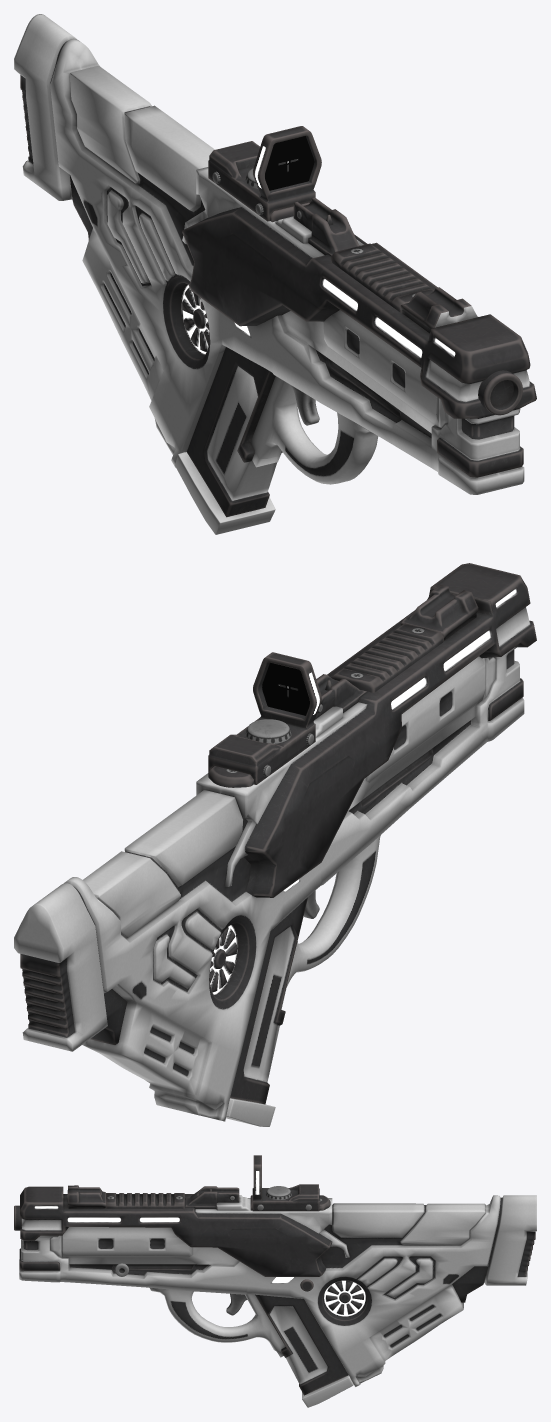
The model's file is SciFiSMG01_2.FBX.
3 views of the same model, one above another, from view 1: azimuth 30°, elevation 25°; view 2: azimuth 150°, elevation 25°; view 3: azimuth 270°, elevation 25° (orthographic). The views are drawn at different scales.
Parts seen in each view (by area): view 1: SciFiSMG01_2, Scope, Clip, ScopeDot, Trigger; view 2: SciFiSMG01_2, Scope, ScopeDot, Clip; view 3: SciFiSMG01_2, Scope, Clip.
Boxes of the visible parts, left/top/right/bottom form: SciFiSMG01_2: left=14, top=14, right=536, bottom=517; Scope: left=208, top=126, right=321, bottom=221; Clip: left=175, top=452, right=275, bottom=534; ScopeDot: left=265, top=136, right=314, bottom=190; Trigger: left=291, top=385, right=319, bottom=425; SciFiSMG01_2: left=14, top=563, right=536, bottom=1121; Scope: left=208, top=652, right=321, bottom=784; ScopeDot: left=262, top=662, right=309, bottom=715; Clip: left=226, top=1098, right=275, bottom=1126; SciFiSMG01_2: left=14, top=1185, right=536, bottom=1395; Scope: left=252, top=1155, right=319, bottom=1211; Clip: left=302, top=1375, right=353, bottom=1407.
Size of what is drawn, in the model's own units: 0.0869 by 0.4294 by 0.8466.
